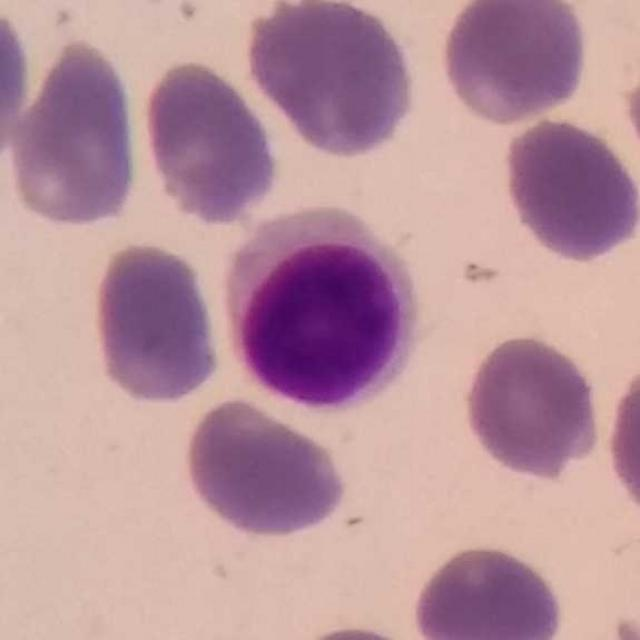Lymphocyte: (224, 196, 436, 418)
RBC: (240, 0, 422, 163), (3, 34, 145, 232), (180, 394, 352, 541), (137, 56, 283, 227), (87, 237, 228, 409), (458, 331, 606, 482), (497, 113, 640, 266), (435, 1, 592, 128), (408, 540, 568, 640), (601, 352, 640, 532), (0, 1, 36, 176), (283, 620, 434, 640), (620, 48, 640, 189)
